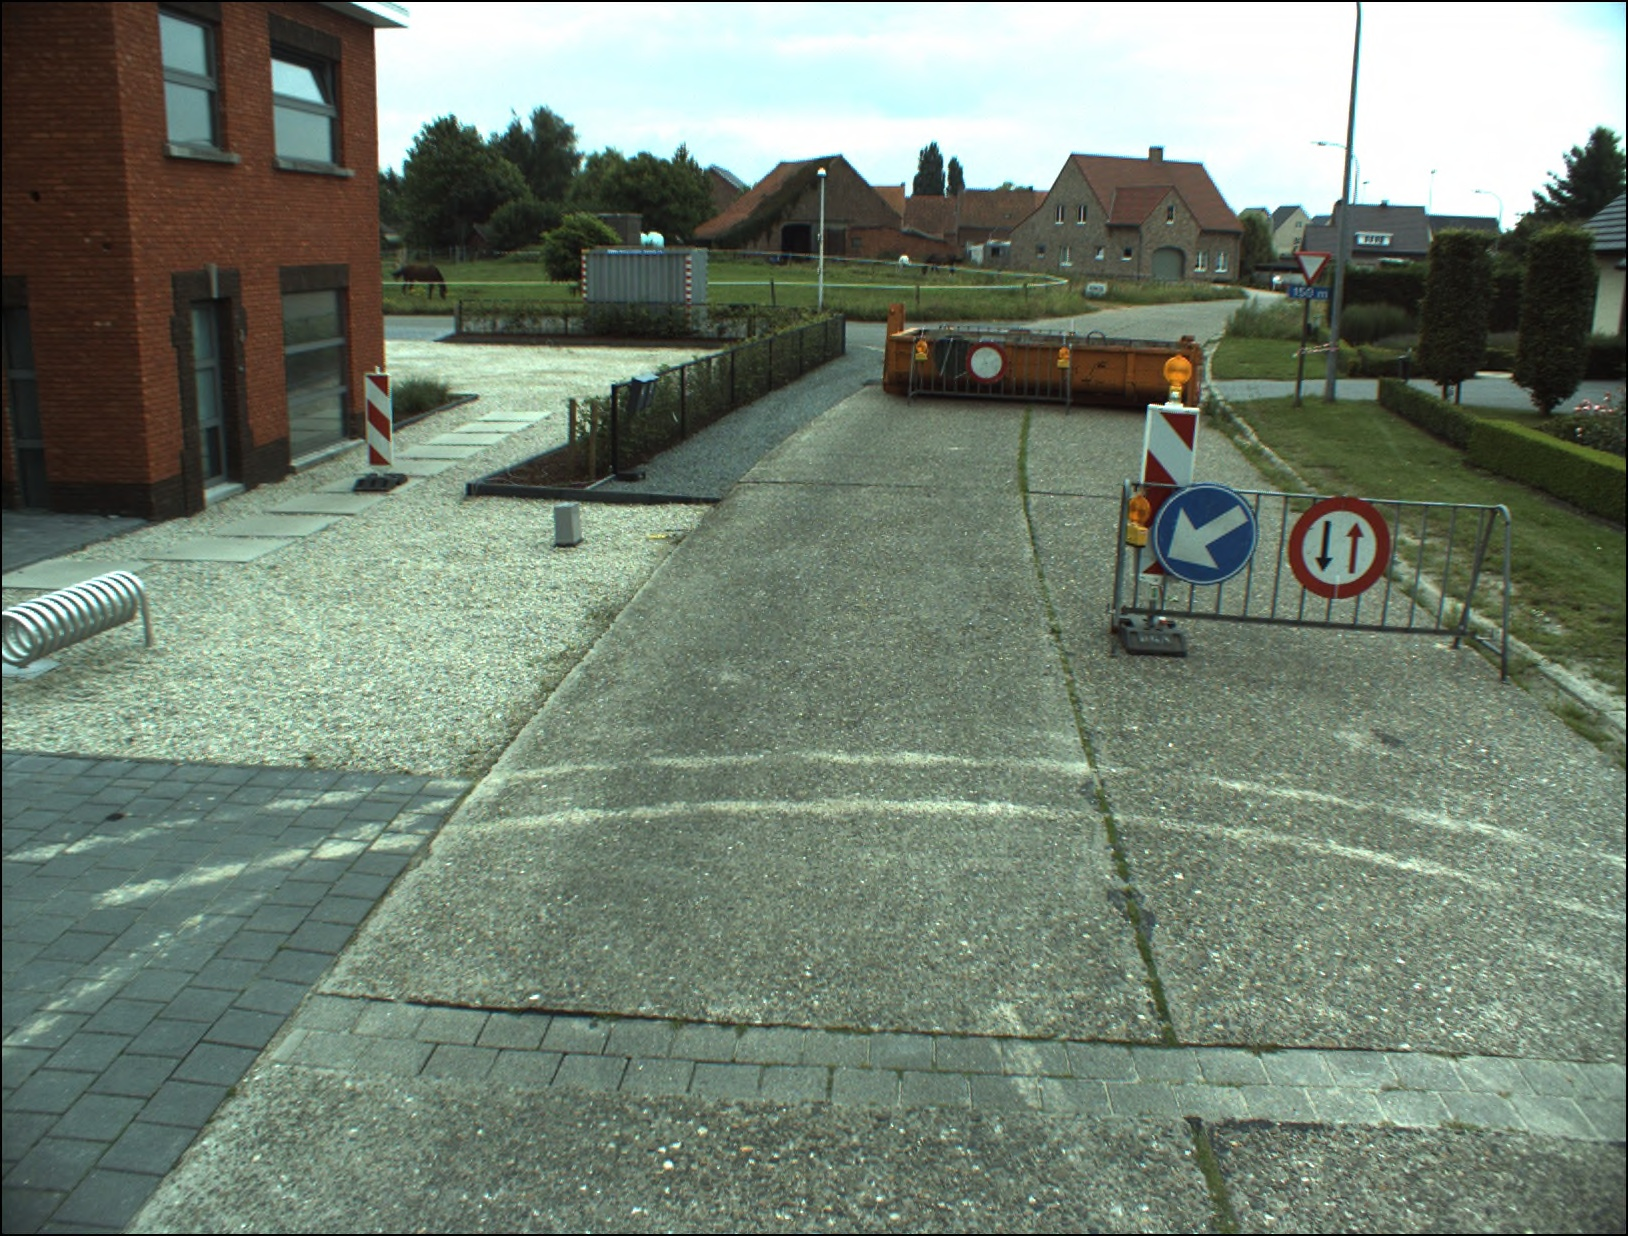forbidden: (967, 343, 1005, 380)
passleft: (1153, 484, 1255, 587)
roadnarrow2: (1289, 497, 1389, 599)
